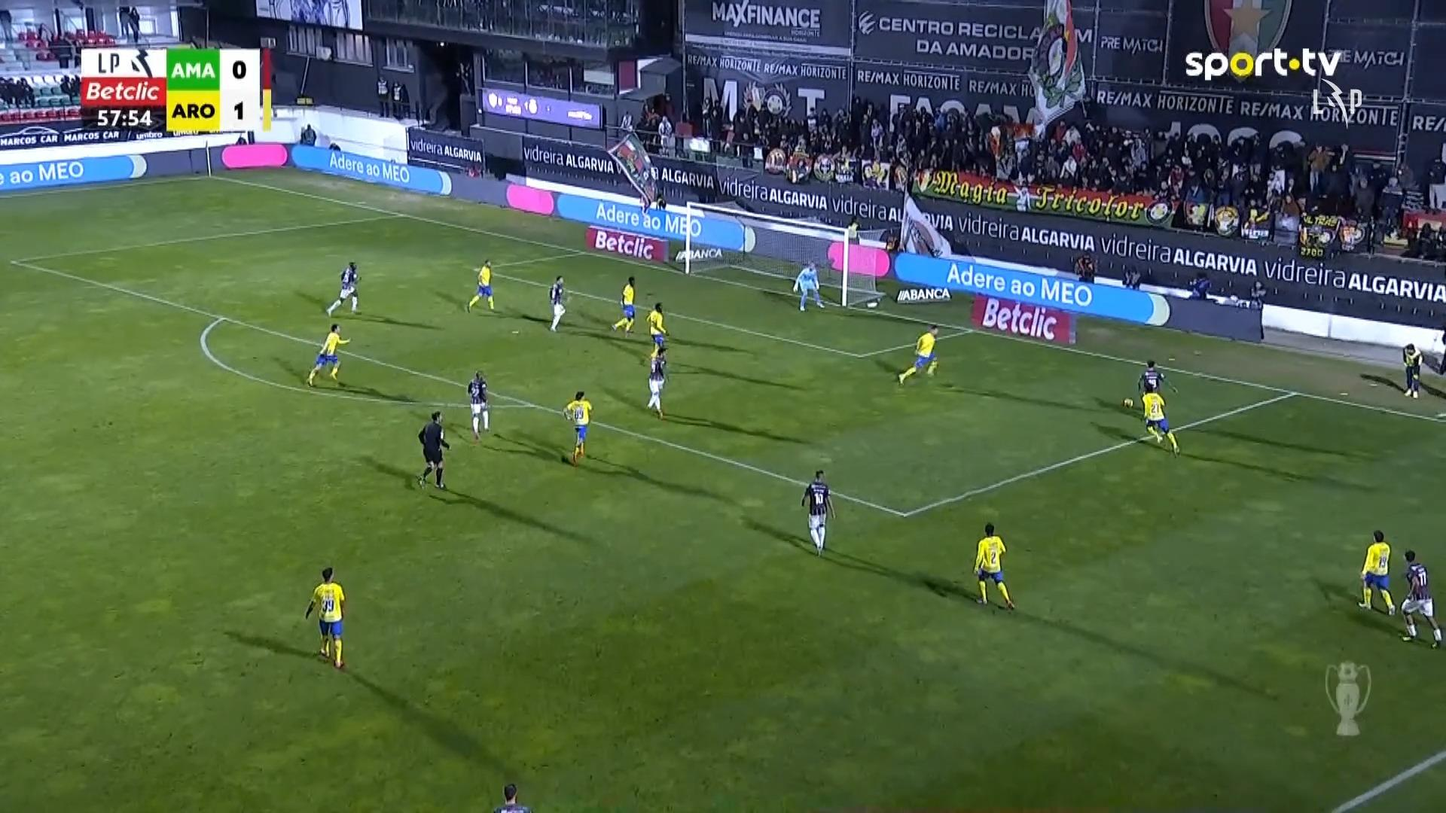ball: (1122, 397, 1133, 408)
goalkeeper: (792, 260, 825, 312)
player: (1399, 549, 1443, 648), (304, 566, 346, 669), (972, 522, 1014, 610), (1356, 529, 1396, 615), (800, 468, 836, 556), (306, 322, 351, 386), (1140, 387, 1180, 456), (896, 323, 939, 385), (1122, 358, 1166, 409), (563, 390, 592, 465), (325, 260, 361, 316), (466, 369, 490, 441), (645, 346, 668, 419), (464, 259, 495, 313), (611, 276, 636, 335), (645, 301, 668, 358), (492, 781, 532, 811), (1137, 358, 1165, 397), (548, 274, 566, 332)
referee: (416, 410, 450, 489)
